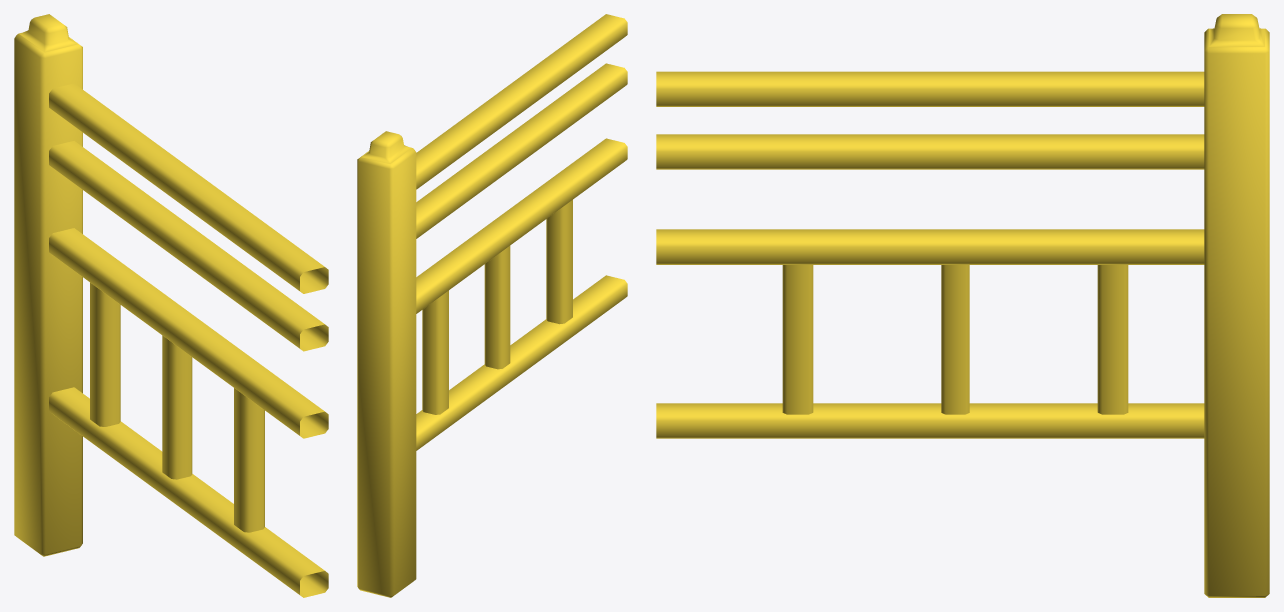
File: valla_02.fbx
3 views of the same model, side by side, from view 1: azimuth 30°, elevation 25°; view 2: azimuth 150°, elevation 25°; view 3: azimuth 270°, elevation 25° (orthographic). The views are drawn at different scales.
Parts seen in each view (by area): view 1: valla_02; view 2: valla_02; view 3: valla_02.
Part boxes in pixels (x1,y1,x2,y2): valla_02: [14, 14, 328, 597]; valla_02: [357, 14, 627, 597]; valla_02: [656, 14, 1269, 597].
Bounding box in the file's own units: 19.29 × 224 × 218.
